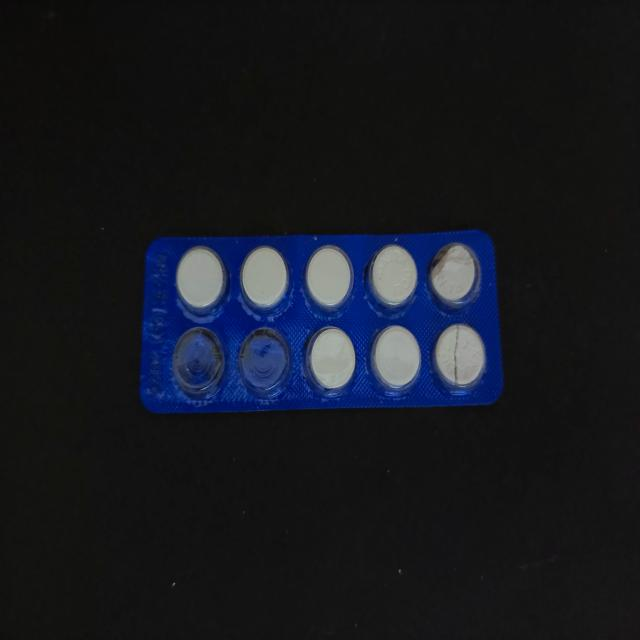defect: (236, 325, 294, 402), (171, 325, 228, 403), (426, 238, 483, 314), (431, 320, 488, 394)
